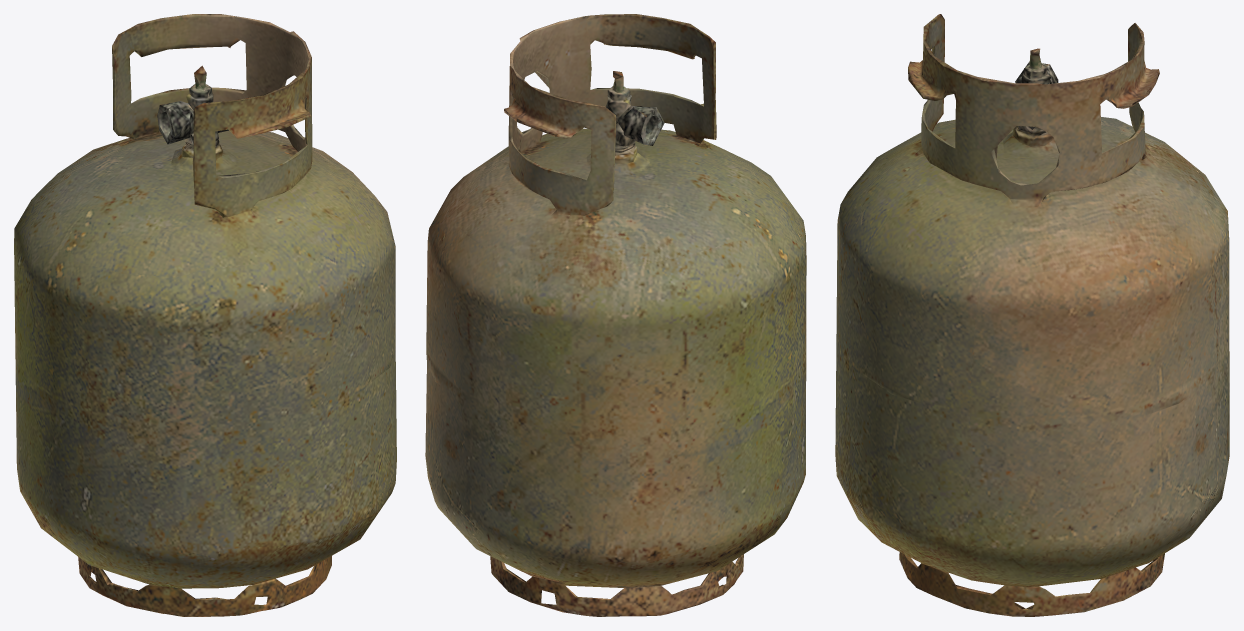
File: SM_Ind_Aban_Tank_Gas_Metal_Worn_02.gltf
3 renders of one model, left to right at view 1: azimuth 30°, elevation 25°; view 2: azimuth 150°, elevation 25°; view 3: azimuth 270°, elevation 25°, orthographic. The views are drawn at different scales.
Visible parts, largest first — view 1: SM_Ind_Aban_Tank_Gas_Metal_Worn_02; view 2: SM_Ind_Aban_Tank_Gas_Metal_Worn_02; view 3: SM_Ind_Aban_Tank_Gas_Metal_Worn_02.
Boxes of the visible parts, x1,y1,x2,y2 form: SM_Ind_Aban_Tank_Gas_Metal_Worn_02: [14, 14, 396, 616]; SM_Ind_Aban_Tank_Gas_Metal_Worn_02: [425, 14, 806, 616]; SM_Ind_Aban_Tank_Gas_Metal_Worn_02: [835, 14, 1229, 616].
Size of the model in its own units: 0.3069 by 0.4497 by 0.3057.
1 material, 1 textured.
